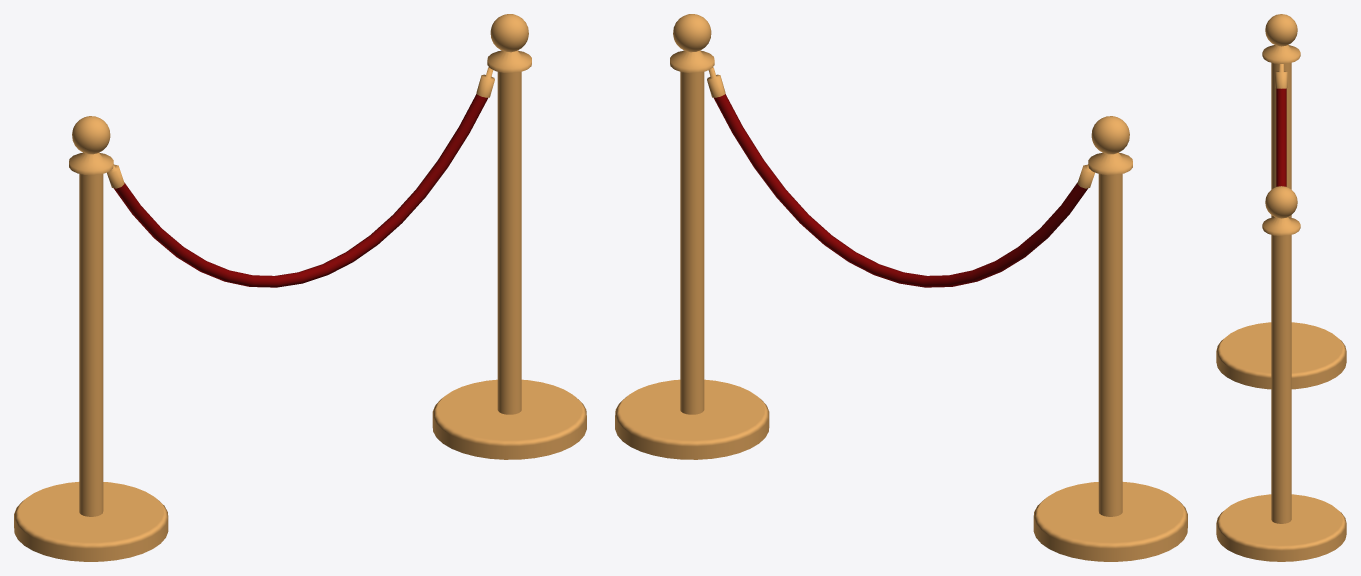
File: stanchion-pole.glb
3 views of the same model, side by side, from view 1: azimuth 30°, elevation 25°; view 2: azimuth 150°, elevation 25°; view 3: azimuth 270°, elevation 25° (orthographic). The views are drawn at different scales.
Parts seen in each view (by area): view 1: Cylinder (×2), Cylinder.001 (×2), BézierCurve, Icosphere (×2); view 2: Cylinder (×2), Cylinder.001 (×2), BézierCurve, Icosphere (×2); view 3: Cylinder (×2), Cylinder.001 (×2), Icosphere (×2), BézierCurve, Cylinder.002.
Boxes of the visible parts, x1=… form: Cylinder (×2): x1=14, y1=379, x2=586, y2=561; Cylinder.001 (×2): x1=69, y1=50, x2=531, y2=516; BézierCurve: x1=114, y1=94, x2=487, y2=287; Icosphere (×2): x1=72, y1=14, x2=528, y2=154; Cylinder (×2): x1=615, y1=379, x2=1187, y2=561; Cylinder.001 (×2): x1=670, y1=50, x2=1132, y2=516; BézierCurve: x1=714, y1=94, x2=1087, y2=287; Icosphere (×2): x1=673, y1=14, x2=1129, y2=154; Cylinder (×2): x1=1216, y1=322, x2=1346, y2=561; Cylinder.001 (×2): x1=1262, y1=45, x2=1300, y2=523; Icosphere (×2): x1=1265, y1=14, x2=1297, y2=218; BézierCurve: x1=1276, y1=88, x2=1286, y2=186; Cylinder.002: x1=1275, y1=64, x2=1287, y2=88.
Size of the model in its own units: 1.32 by 0.94 by 0.32.
